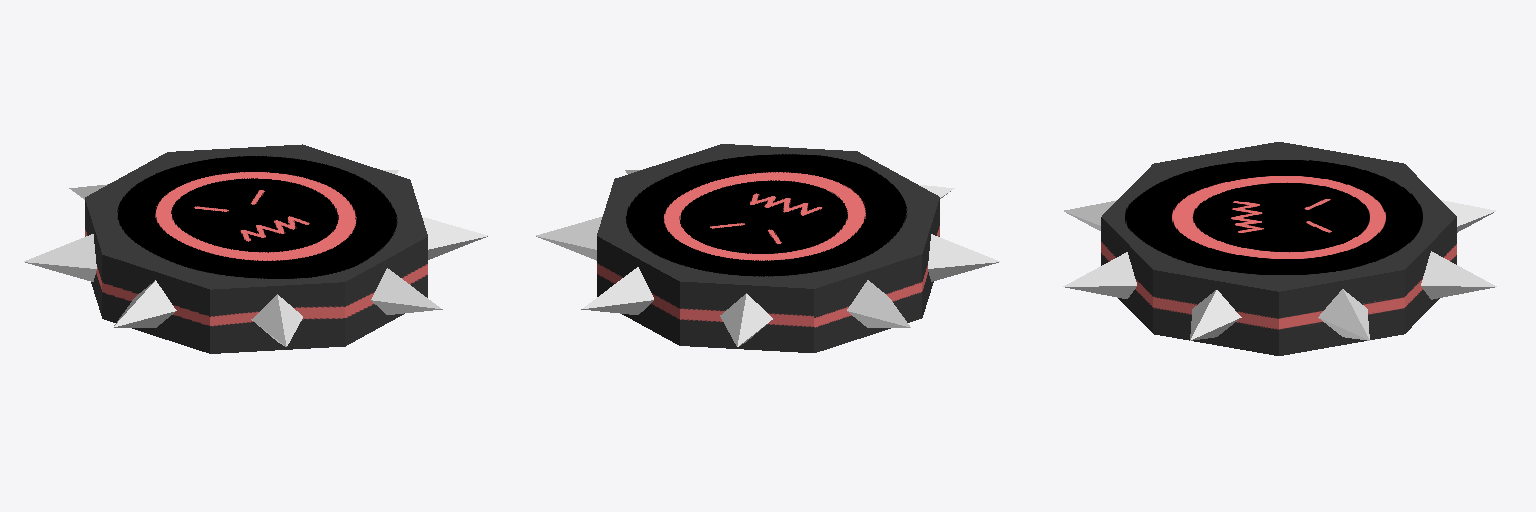
The picture shows the model from 3 angles: view 1: azimuth 30°, elevation 25°; view 2: azimuth 150°, elevation 25°; view 3: azimuth 270°, elevation 25°; orthographic projection.
Parts seen in each view (by area): view 1: 円柱, 円錐.008, 円錐.004, 円錐.006, 円錐.005, 円錐.003; view 2: 円柱, 円錐.001, 円錐.006, 円錐.008, 円錐.009, 円錐.002; view 3: 円柱, 円錐.001, 円錐.004, 円錐.002, 円錐.003, 円錐.009, 円錐.005.
Boxes of the visible parts, x1=… form: 円柱: x1=85, y1=144, x2=427, y2=353; 円錐.008: x1=24, y1=234, x2=96, y2=281; 円錐.004: x1=371, y1=268, x2=442, y2=314; 円錐.006: x1=113, y1=280, x2=176, y2=327; 円錐.005: x1=251, y1=294, x2=302, y2=346; 円錐.003: x1=422, y1=217, x2=487, y2=259; 円柱: x1=597, y1=144, x2=939, y2=352; 円錐.001: x1=581, y1=267, x2=653, y2=314; 円錐.006: x1=928, y1=234, x2=999, y2=281; 円錐.008: x1=847, y1=280, x2=910, y2=327; 円錐.009: x1=720, y1=293, x2=772, y2=346; 円錐.002: x1=536, y1=216, x2=602, y2=260; 円柱: x1=1101, y1=142, x2=1456, y2=355; 円錐.001: x1=1421, y1=251, x2=1496, y2=299; 円錐.004: x1=1063, y1=252, x2=1136, y2=298; 円錐.002: x1=1318, y1=289, x2=1369, y2=340; 円錐.003: x1=1190, y1=290, x2=1241, y2=340; 円錐.009: x1=1441, y1=200, x2=1495, y2=232; 円錐.005: x1=1064, y1=200, x2=1116, y2=230.
Bounding box in the file's own units: 1.22 × 0.2438 × 1.22.
Materials: 1 (1 with a texture image).